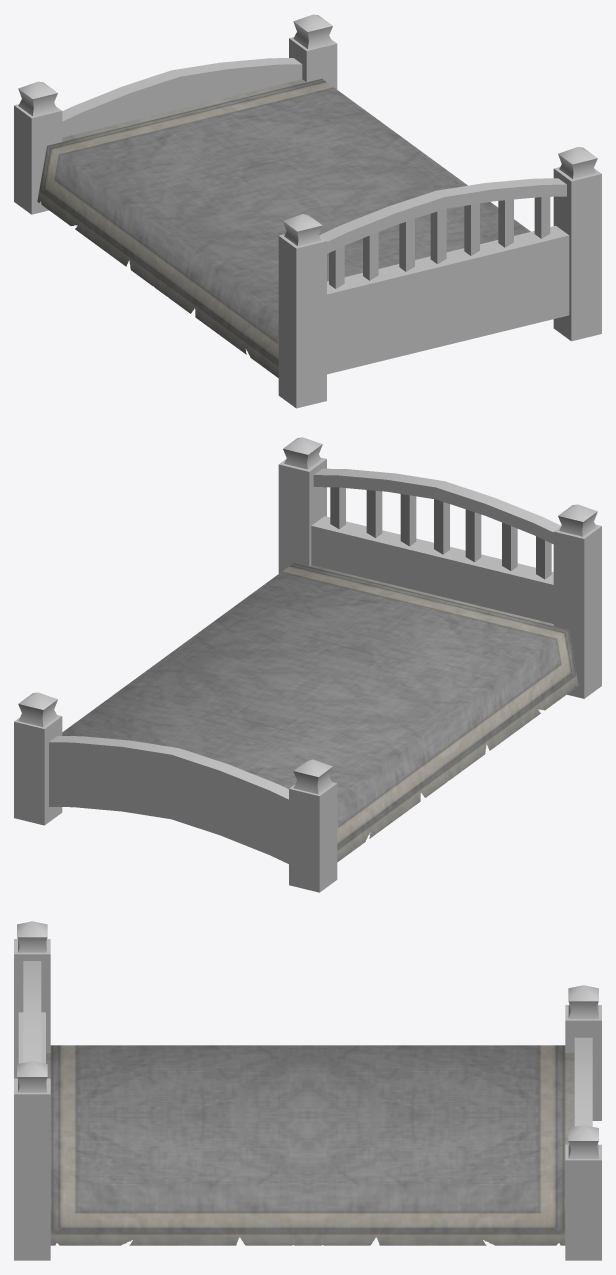
File: Bed_7.fbx
3 renders of one model, top to bottom at view 1: azimuth 30°, elevation 25°; view 2: azimuth 150°, elevation 25°; view 3: azimuth 270°, elevation 25°, orthographic. The views are drawn at different scales.
Parts seen in each view (by area): view 1: polySurface7911, Alpha; view 2: Alpha, polySurface7911; view 3: Alpha, polySurface7911.
Boxes of the visible parts, <box> form: polySurface7911: <box>14,14,601,408</box>; Alpha: <box>37,78,530,377</box>; Alpha: <box>62,563,578,862</box>; polySurface7911: <box>14,437,601,892</box>; Alpha: <box>46,1045,574,1245</box>; polySurface7911: <box>14,921,601,1260</box>.
Bounding box in the file's own units: 2 × 1.15 × 3.2.
